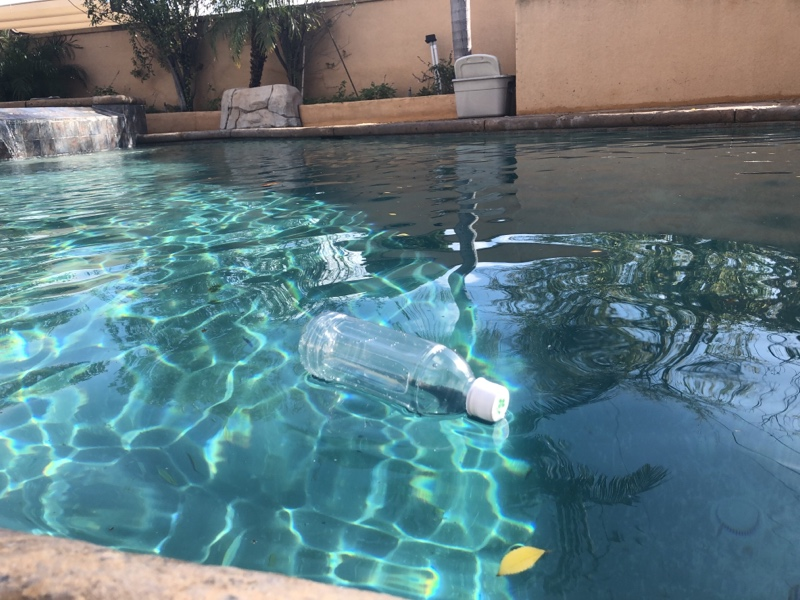Plastic Bottle: (298, 308, 513, 436)
